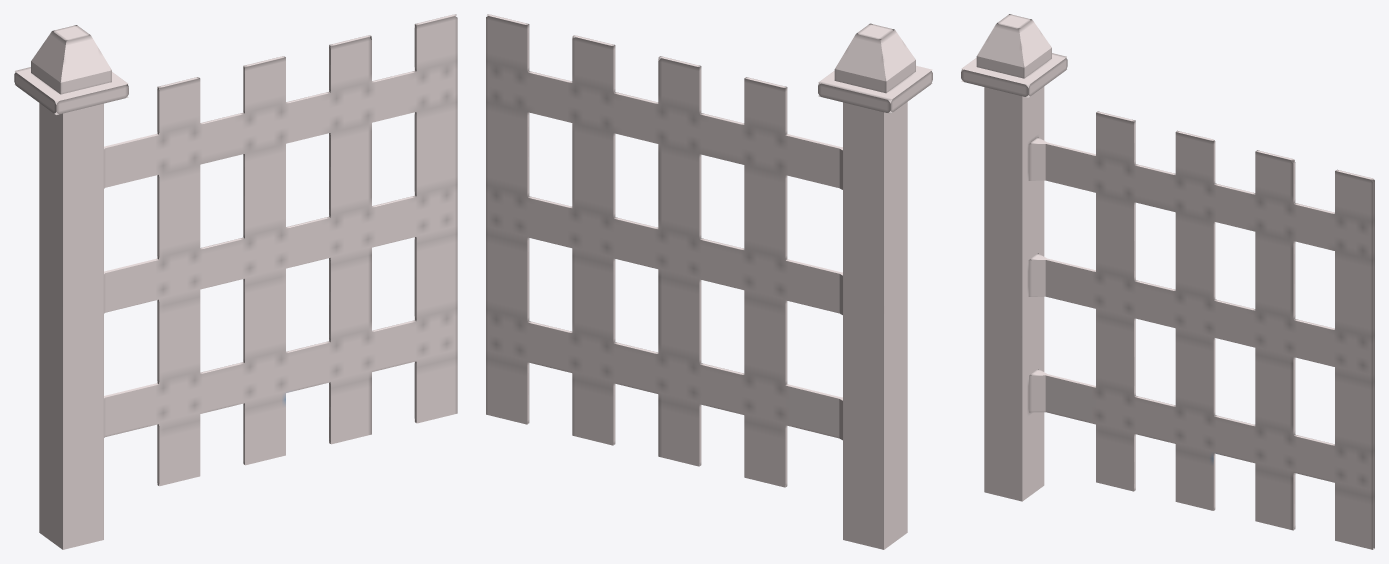
File: FenceGate.fbx
3 renders of one model, left to right at view 1: azimuth 30°, elevation 25°; view 2: azimuth 150°, elevation 25°; view 3: azimuth 330°, elevation 25°, orthographic. The views are drawn at different scales.
Visible parts, largest first — view 1: FenceGate; view 2: FenceGate; view 3: FenceGate.
Boxes of the visible parts, bbox=[...] form: FenceGate: bbox=[14, 14, 457, 549]; FenceGate: bbox=[486, 14, 932, 549]; FenceGate: bbox=[961, 14, 1374, 549].
Size of the model in its own units: 168 by 191 by 28.83.
Materials: 1 (1 with a texture image).
